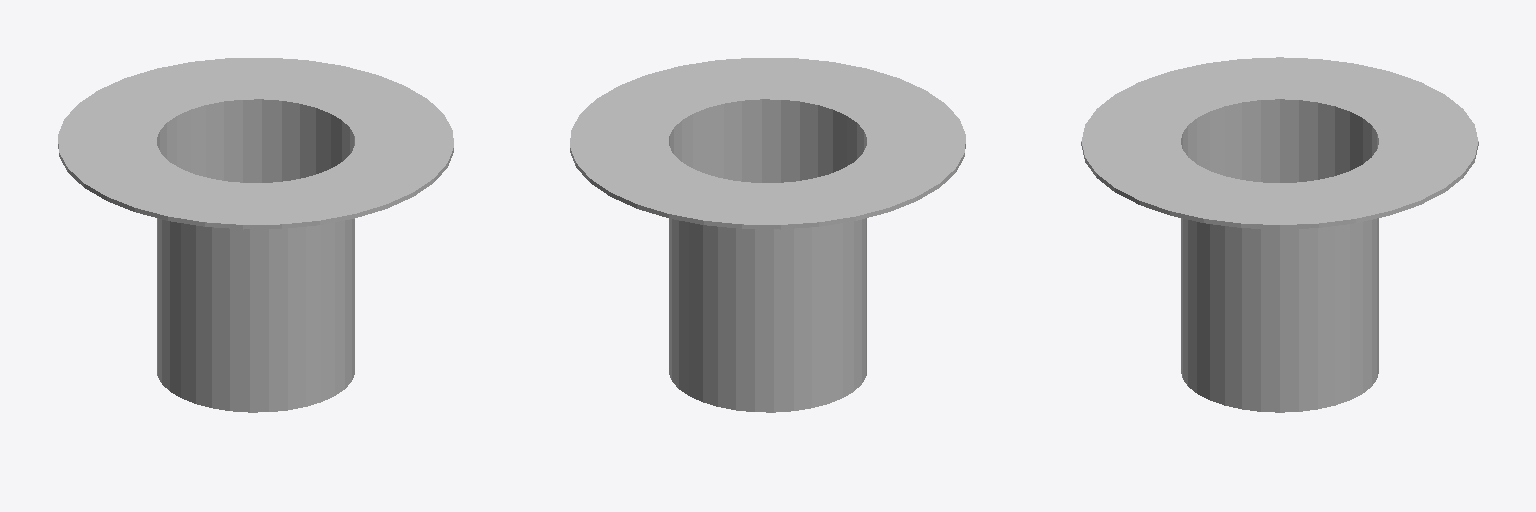
The model's file is hole.obj.
3 renders of one model, left to right at view 1: azimuth 30°, elevation 25°; view 2: azimuth 150°, elevation 25°; view 3: azimuth 270°, elevation 25°, orthographic.
Parts seen in each view (by area): view 1: Circle.002_Circle.001; view 2: Circle.002_Circle.001; view 3: Circle.002_Circle.001.
Part boxes in pixels (bbox=[...]): Circle.002_Circle.001: bbox=[58, 58, 453, 412]; Circle.002_Circle.001: bbox=[570, 58, 965, 412]; Circle.002_Circle.001: bbox=[1081, 57, 1478, 412].
Bounding box in the file's own units: 8 × 5.1 × 8.